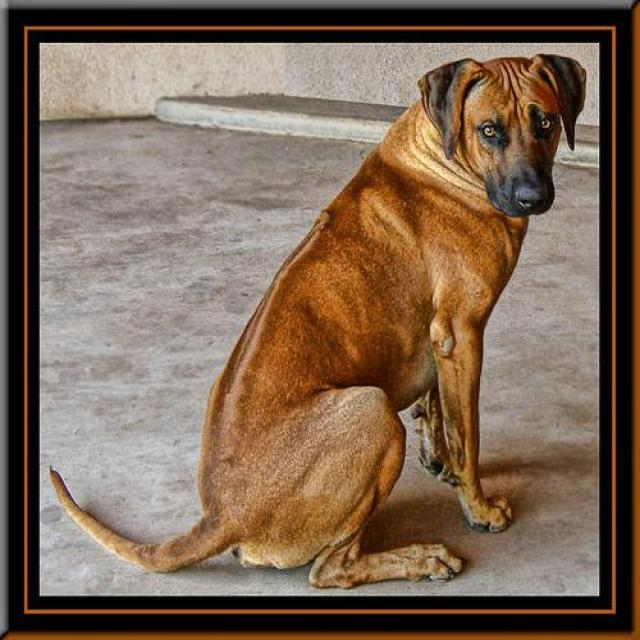rhodesian_ridgeback: (46, 50, 585, 589)
